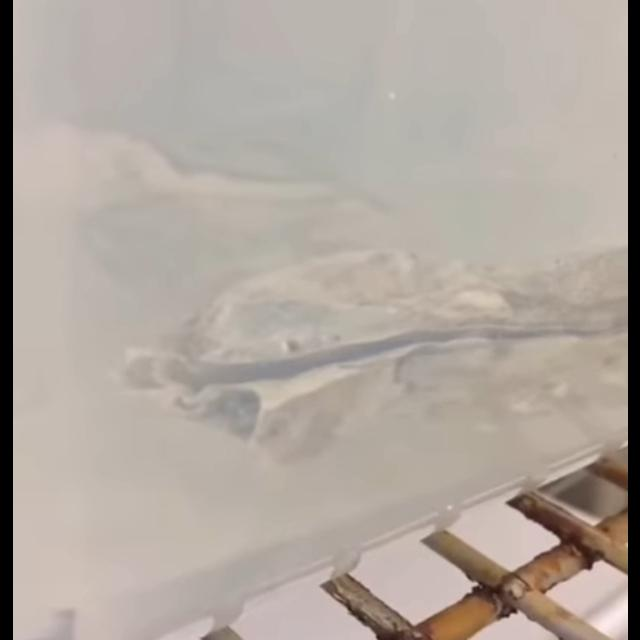Oyster-Indeterminate: (59, 116, 354, 244)
Oyster-Open: (114, 248, 628, 467)
